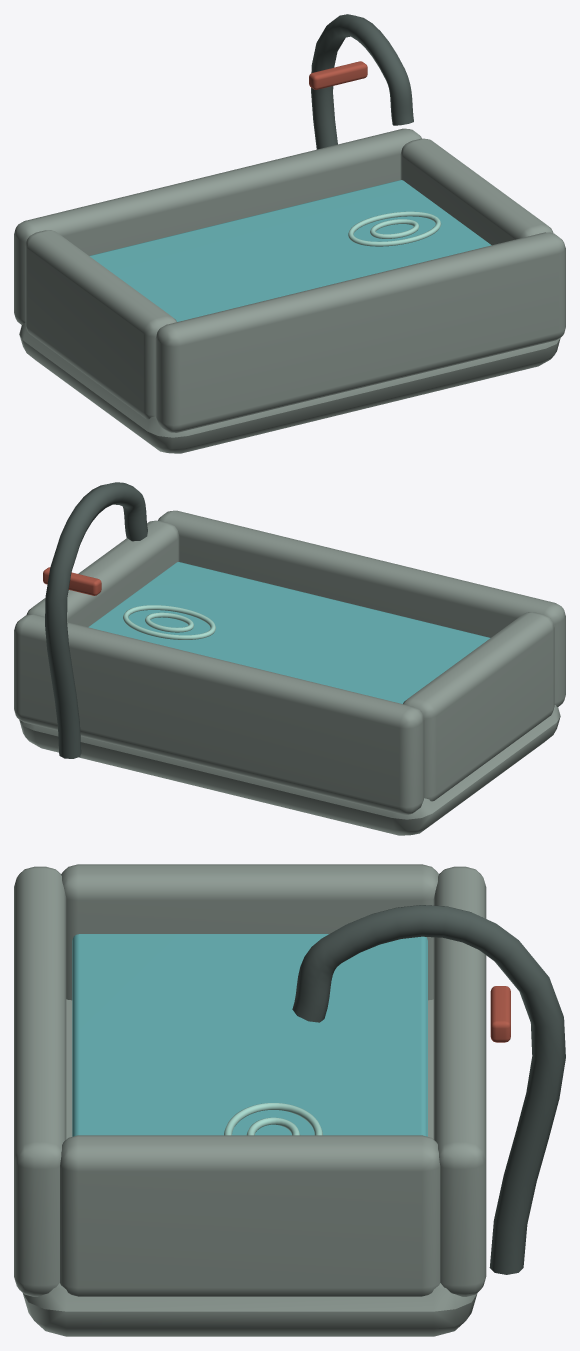
Rendered from pig_waterer.glb.
3 renders of one model, top to bottom at view 1: azimuth 30°, elevation 25°; view 2: azimuth 150°, elevation 25°; view 3: azimuth 270°, elevation 25°, orthographic. The views are drawn at different scales.
Visible parts, largest first — view 1: WaterTroughStatic, WaterSurface; view 2: WaterTroughStatic, WaterSurface; view 3: WaterTroughStatic, WaterSurface.
Part boxes in pixels (box(x1,y1,x2,y2)): WaterTroughStatic: box(14, 14, 565, 453); WaterSurface: box(89, 180, 491, 321); WaterTroughStatic: box(14, 482, 565, 835); WaterSurface: box(88, 562, 490, 703); WaterTroughStatic: box(14, 864, 565, 1336); WaterSurface: box(72, 934, 427, 1136).
Size of the model in its own units: 1.2 by 0.7457 by 0.9468.
